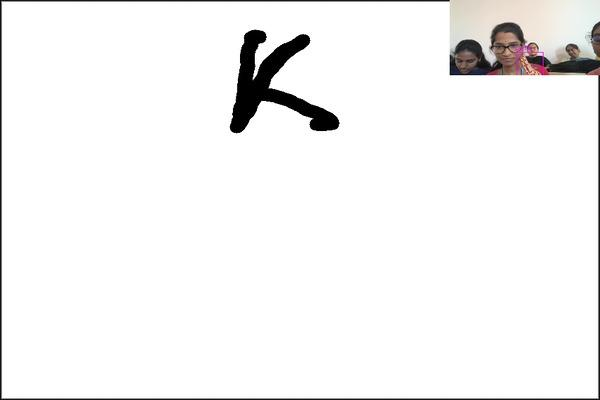K: (225, 23, 348, 145)
